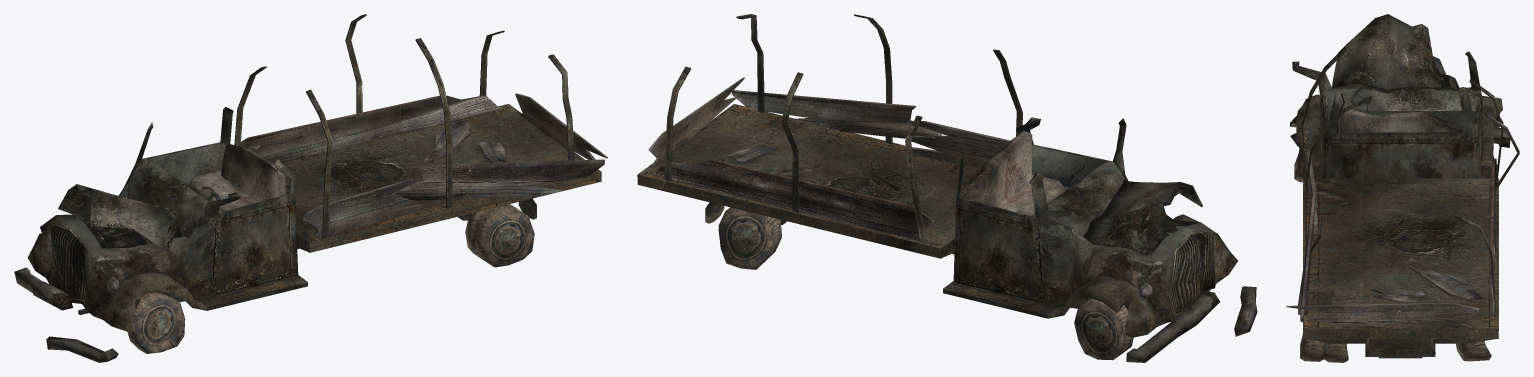
Rendered from truck_cargo_destroyed_erosion_rust.glb.
3 views of the same model, side by side, from view 1: azimuth 30°, elevation 25°; view 2: azimuth 150°, elevation 25°; view 3: azimuth 270°, elevation 25° (orthographic). The views are drawn at different scales.
Parts seen in each view (by area): view 1: Object_2; view 2: Object_2; view 3: Object_2.
Boxes of the visible parts, bbox=[...] form: Object_2: bbox=[14, 14, 607, 362]; Object_2: bbox=[637, 14, 1257, 362]; Object_2: bbox=[1286, 14, 1519, 362].
Size of the model in its own units: 667 by 265 by 242.
1 material, 1 textured.
